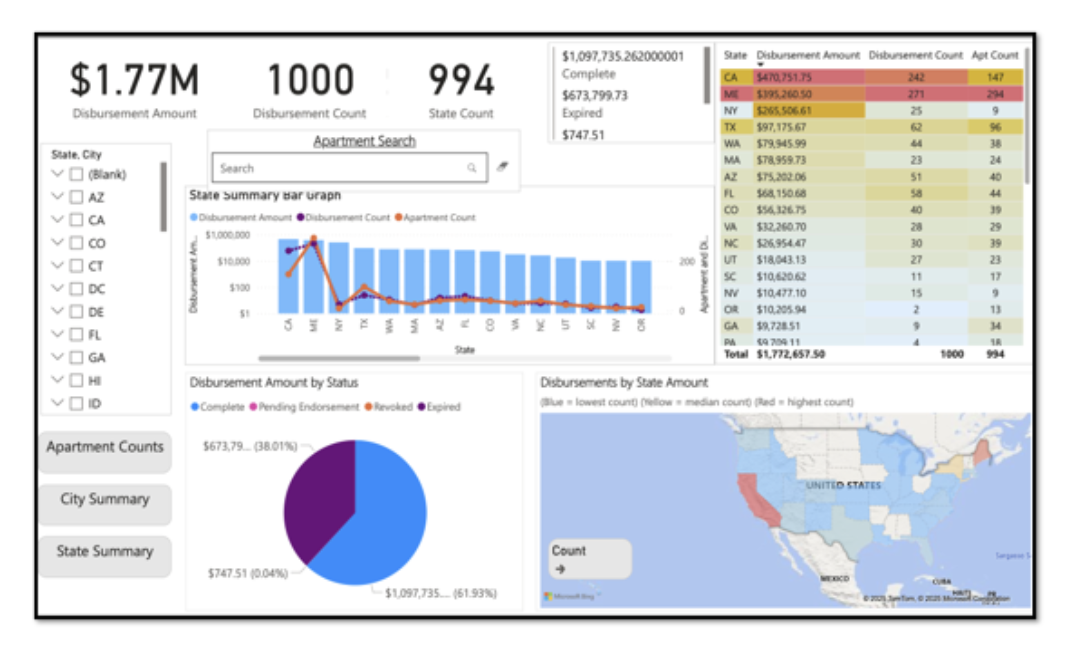

The dashboard page shown, as its layout file describes it:
{"tool":"powerbi","page":{"name":"Apartment Overview","canvas":[1280,720],"ordinal":0},"visuals":[{"type":"tableEx","fields":{"Values":["new_san_apt_ref.City_State","new_san_apt_ref.Apartment Count","df_SAN_Disbursements.Disbursement Amount","df_SAN_Disbursements.Disbursement_Count"]},"box":[0,415.7,505.7,304.3],"z":0},{"type":"map","fields":{"Size":["new_san_apt_ref.Apartment Count"],"Category":["new_san_apt_ref.City_State"]},"box":[525.7,128.6,754.3,370],"z":1000},{"type":"tableEx","fields":{"Values":["new_san_apt_ref.State","new_san_apt_ref.Apartment Count","df_SAN_Disbursements.Disbursement Amount","df_SAN_Disbursements.Disbursement_Count"]},"box":[0,387.1,515.7,332.9],"z":2000},{"type":"filledMap","fields":{"Category":["new_san_apt_ref.State"]},"box":[525.7,128.6,754.3,370],"z":3000},{"type":"slicer","fields":{"Values":["Parameter 2.Parameter"]},"box":[188.6,0,254.3,128.6],"z":4000},{"type":"actionButton","box":[0,64.3,170,64.3],"z":4001},{"type":"actionButton","box":[0,0,170,64.3],"z":4002},{"type":"card","fields":{"Values":["new_san_apt_ref.Apartment Count"]},"box":[468.6,0,261.4,114.3],"z":4003},{"type":"slicer","fields":{"Values":["new_san_apt_ref.State","new_san_apt_ref.City"]},"box":[0,142.9,170,234.3],"z":4005},{"type":"card","fields":{"Values":["df_SAN_Disbursements.Disbursement Amount"]},"box":[742.9,0,268.6,114.3],"z":4006},{"type":"card","fields":{"Values":["df_SAN_Disbursements.Disbursement_Count"]},"box":[1011.4,0,268.6,114.3],"z":4007},{"type":"slicer","fields":{"Values":["new_san_apt_ref.SanitizedName"]},"box":[204.3,142.9,264.3,244.3],"z":4008},{"type":"pieChart","title":"Disbursement Status Amount","fields":{"Y":["df_SAN_Disbursements.Complete","df_SAN_Disbursements.Expired","df_SAN_Disbursements.Pending","df_SAN_Disbursements.Revoked"]},"box":[917.1,511.4,352.9,208.6],"z":4009},{"type":"donutChart","title":"Disbursement Status Count","fields":{"Y":["df_SAN_Disbursements.Complete Count","df_SAN_Disbursements.Expired Count","df_SAN_Disbursements.Pending Count","df_SAN_Disbursements.Revoked Count"]},"box":[542.9,511.4,345.7,208.6],"z":4010}]}

Visuals, with their boxes on the page's 1280x720 design canvas (x1, y1, x2, y2). These are canvas units, not pixel positions in the 1078x650 screenshot, which may show the page scaled, cropped or inside an application window:
tableEx - new_san_apt_ref.City_State x new_san_apt_ref.Apartment Count: (x1=0, y1=416, x2=506, y2=720)
map - new_san_apt_ref.Apartment Count x new_san_apt_ref.City_State: (x1=526, y1=129, x2=1280, y2=499)
tableEx - new_san_apt_ref.State x new_san_apt_ref.Apartment Count: (x1=0, y1=387, x2=516, y2=720)
filledMap - new_san_apt_ref.State: (x1=526, y1=129, x2=1280, y2=499)
slicer - Parameter 2.Parameter: (x1=189, y1=0, x2=443, y2=129)
actionButton: (x1=0, y1=64, x2=170, y2=129)
actionButton: (x1=0, y1=0, x2=170, y2=64)
card - new_san_apt_ref.Apartment Count: (x1=469, y1=0, x2=730, y2=114)
slicer - new_san_apt_ref.State x new_san_apt_ref.City: (x1=0, y1=143, x2=170, y2=377)
card - df_SAN_Disbursements.Disbursement Amount: (x1=743, y1=0, x2=1012, y2=114)
card - df_SAN_Disbursements.Disbursement_Count: (x1=1011, y1=0, x2=1280, y2=114)
slicer - new_san_apt_ref.SanitizedName: (x1=204, y1=143, x2=469, y2=387)
"Disbursement Status Amount" pieChart: (x1=917, y1=511, x2=1270, y2=720)
"Disbursement Status Count" donutChart: (x1=543, y1=511, x2=889, y2=720)
